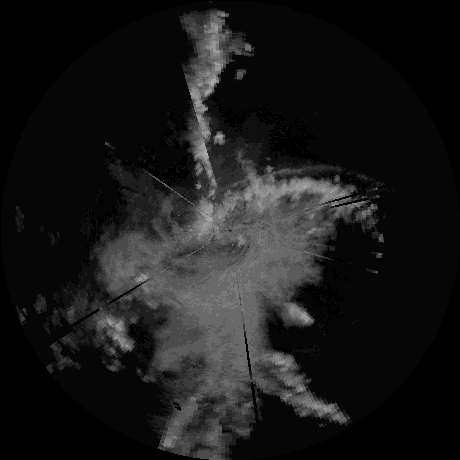frontgust: (217, 161, 343, 189)
